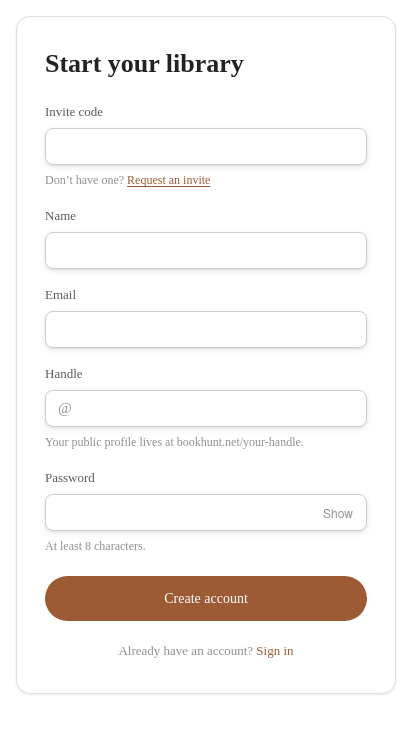
Test: RegisterPage › shows an inline error when the address is already registered
The image size is (413, 749).
Type "Ada Reader" into the field labelled "Name" at (206, 250), box [45,232,367,269]
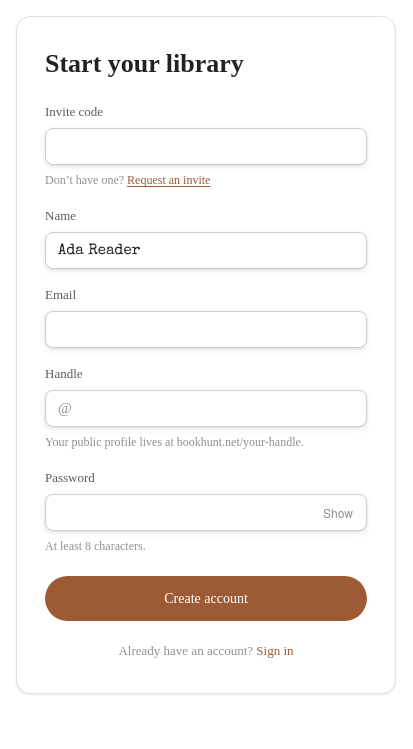
Type "reader@example.com" into the field labelled "Email" at (206, 330), box [45,311,367,348]
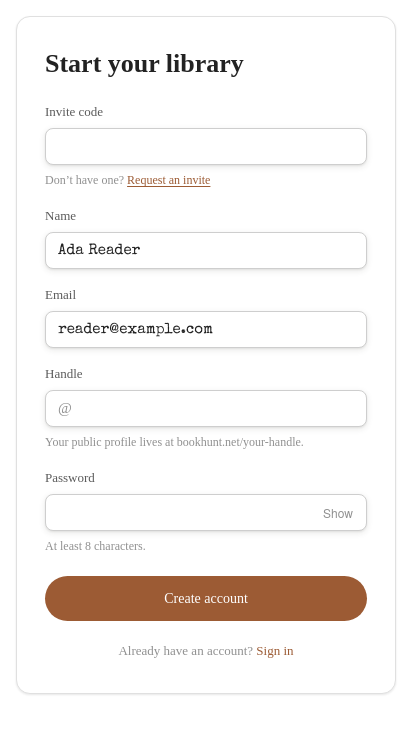
Type "ada" into the field labelled "Handle" at (219, 409), box [72,391,366,426]
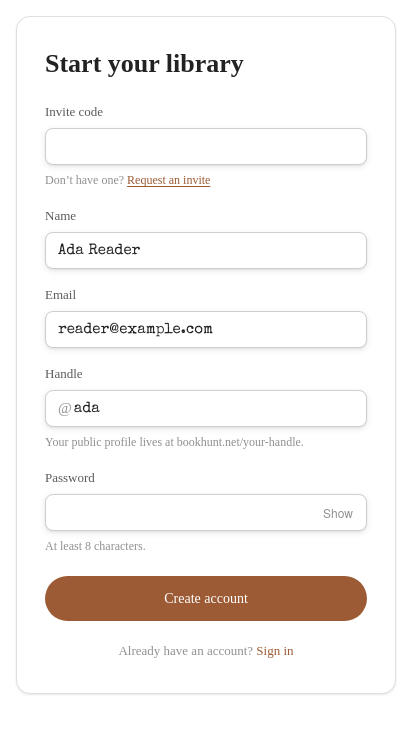
Type "b00kW0rm!" into the password field labelled "Password" at (206, 512), box [45,494,367,531]
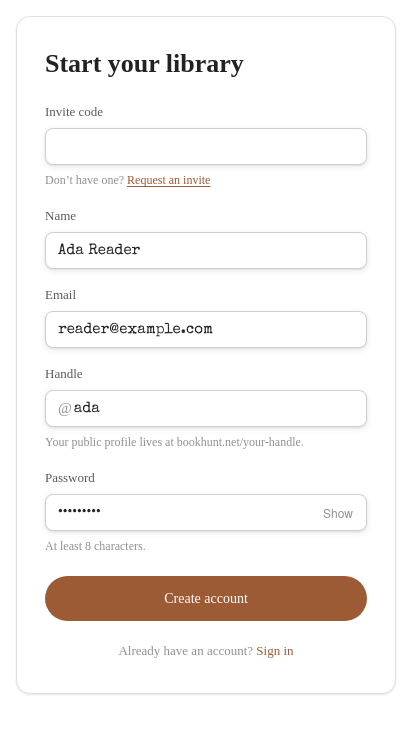
Type "GNRU-XC5B-QGXT" into the field labelled "Invite code" at (206, 147), box [45,128,367,165]
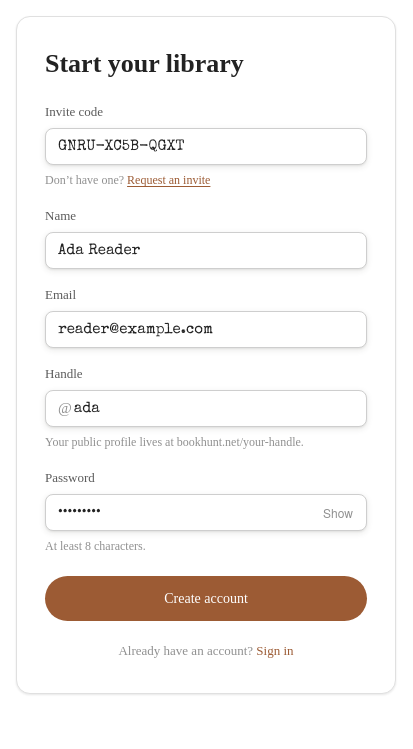
Click the button "Create account" at (206, 598), box [45,576,367,621]
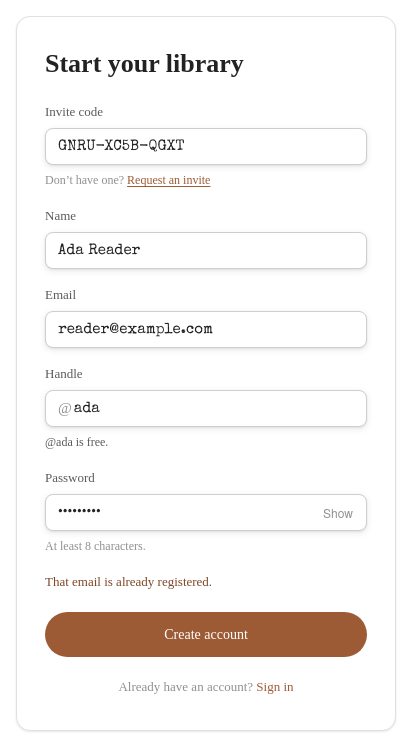
Check: the message "That email is already registered." is shown, box [45,574,212,589]
